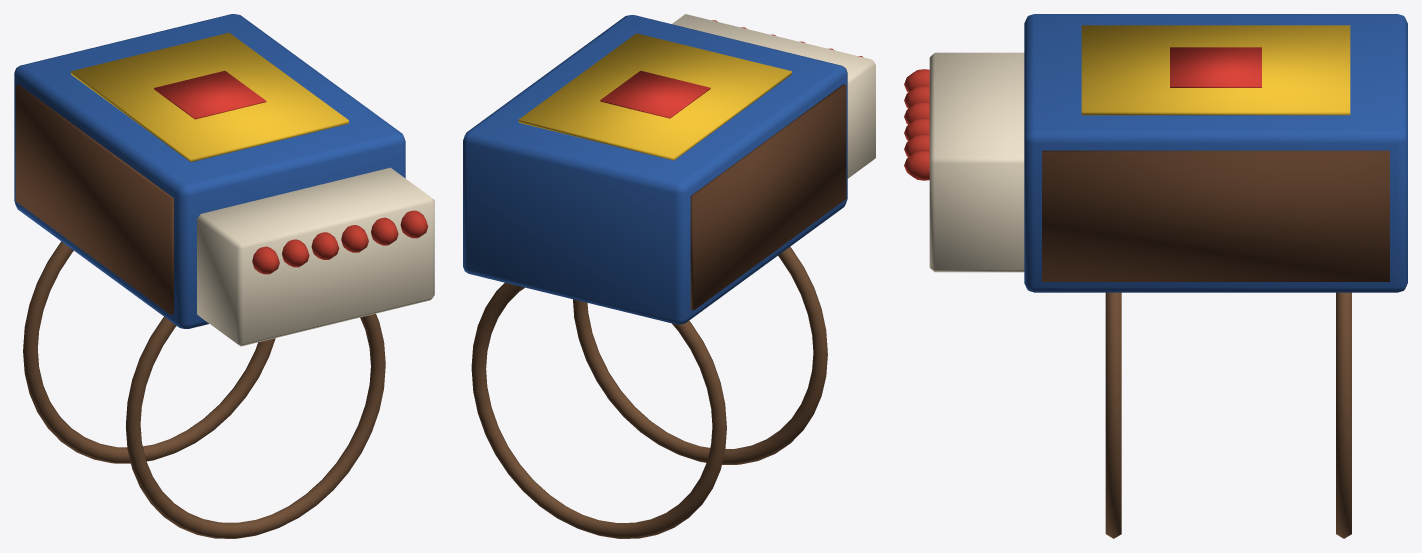
File: cosmetics-matchboxpack.glb
The picture shows the model from 3 angles, left to right: view 1: azimuth 30°, elevation 25°; view 2: azimuth 150°, elevation 25°; view 3: azimuth 270°, elevation 25°; orthographic projection. The views are drawn at different scales.
Parts seen in each view (by area): view 1: MatchboxPack__Box, MatchboxPack__Drawer, MatchboxPack__Strikers, MatchboxPack__Label, MatchboxPack__Straps, MatchboxPack__MatchHeads, MatchboxPack__LabelMark; view 2: MatchboxPack__Box, MatchboxPack__Strikers, MatchboxPack__Straps, MatchboxPack__Label, MatchboxPack__Drawer, MatchboxPack__LabelMark; view 3: MatchboxPack__Strikers, MatchboxPack__Box, MatchboxPack__Drawer, MatchboxPack__Label, MatchboxPack__Straps, MatchboxPack__LabelMark, MatchboxPack__MatchHeads.
Part boxes in pixels (bbox=[...]): MatchboxPack__Box: bbox=[14, 14, 405, 328]; MatchboxPack__Drawer: bbox=[197, 167, 434, 346]; MatchboxPack__Strikers: bbox=[15, 84, 173, 314]; MatchboxPack__Label: bbox=[71, 32, 348, 162]; MatchboxPack__Straps: bbox=[23, 241, 385, 538]; MatchboxPack__MatchHeads: bbox=[252, 210, 428, 274]; MatchboxPack__LabelMark: bbox=[154, 70, 266, 119]; MatchboxPack__Box: bbox=[463, 15, 847, 324]; MatchboxPack__Strikers: bbox=[690, 84, 846, 310]; MatchboxPack__Straps: bbox=[471, 247, 827, 538]; MatchboxPack__Label: bbox=[518, 33, 791, 160]; MatchboxPack__Drawer: bbox=[672, 14, 875, 178]; MatchboxPack__LabelMark: bbox=[600, 70, 710, 118]; MatchboxPack__Strikers: bbox=[1042, 150, 1389, 281]; MatchboxPack__Box: bbox=[1024, 14, 1407, 292]; MatchboxPack__Drawer: bbox=[929, 52, 1024, 272]; MatchboxPack__Label: bbox=[1081, 25, 1350, 115]; MatchboxPack__Straps: bbox=[1105, 292, 1351, 538]; MatchboxPack__LabelMark: bbox=[1170, 47, 1261, 87]; MatchboxPack__MatchHeads: bbox=[904, 69, 929, 180].
Size of the model in its own units: 1.31 by 1.97 by 1.97.
